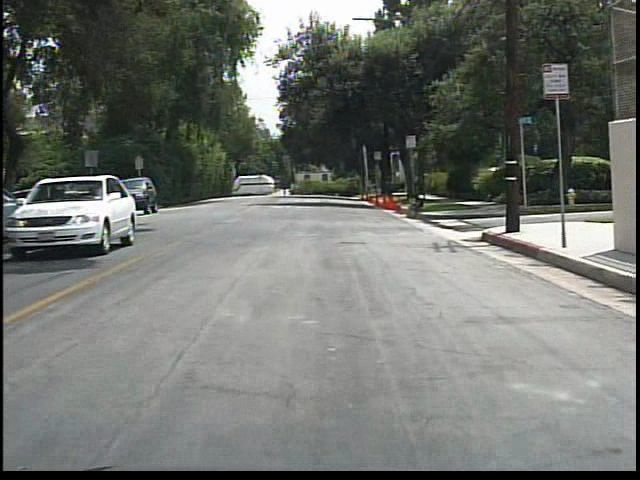person: (403, 189, 431, 221)
